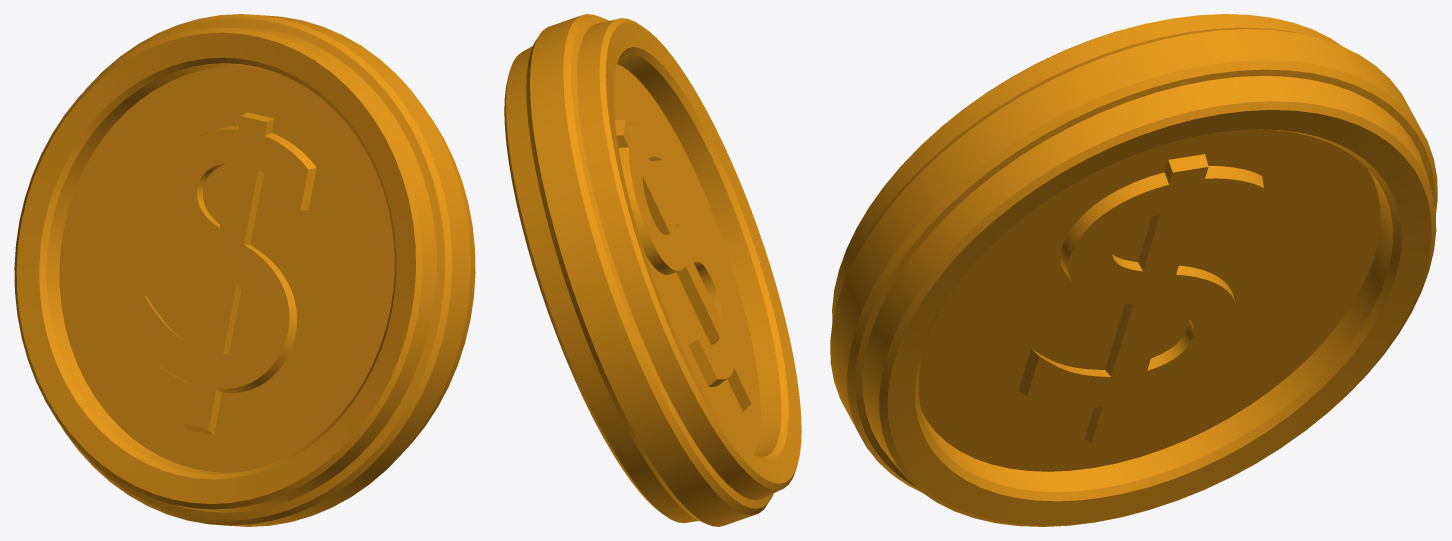
File: coin.glb
The picture shows the model from 3 angles, left to right: view 1: azimuth 30°, elevation 25°; view 2: azimuth 150°, elevation 25°; view 3: azimuth 270°, elevation 25°; orthographic projection. The views are drawn at different scales.
Visible parts, largest first — view 1: Coin; view 2: Coin; view 3: Coin.
Boxes of the visible parts, left/top/right/bottom form: Coin: left=14, top=14, right=475, bottom=526; Coin: left=504, top=14, right=801, bottom=526; Coin: left=830, top=14, right=1437, bottom=526.
Size of the model in its own units: 1.35 by 1.87 by 1.88.
